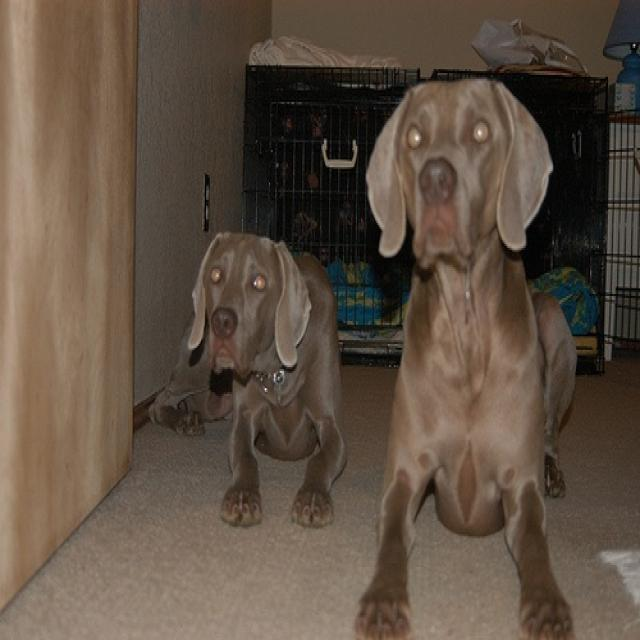dog: (349, 73, 580, 638), (145, 229, 348, 530)
